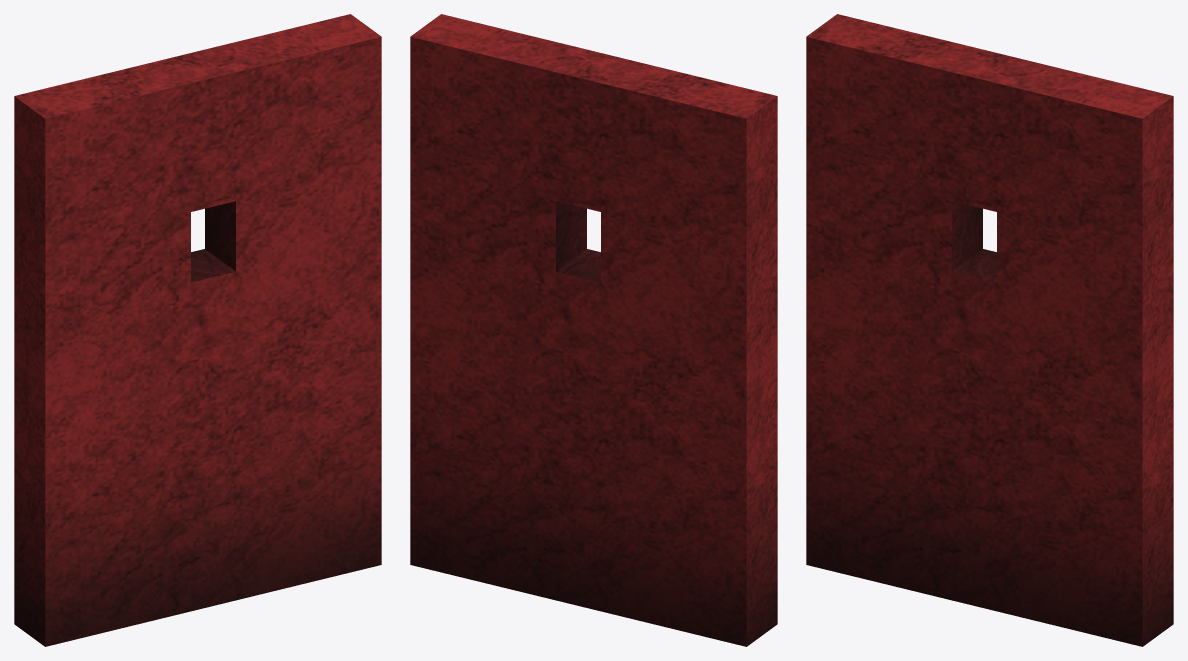
The model's file is Little_Window.fbx.
The picture shows the model from 3 angles, left to right: view 1: azimuth 30°, elevation 25°; view 2: azimuth 150°, elevation 25°; view 3: azimuth 330°, elevation 25°; orthographic projection.
Visible parts, largest first — view 1: Cube.007; view 2: Cube.007; view 3: Cube.007.
Part boxes in pixels (x1,y1,x2,y2): Cube.007: [14, 14, 381, 646]; Cube.007: [410, 14, 777, 646]; Cube.007: [806, 14, 1173, 646].
Size of the model in its own units: 200 by 300 by 32.
